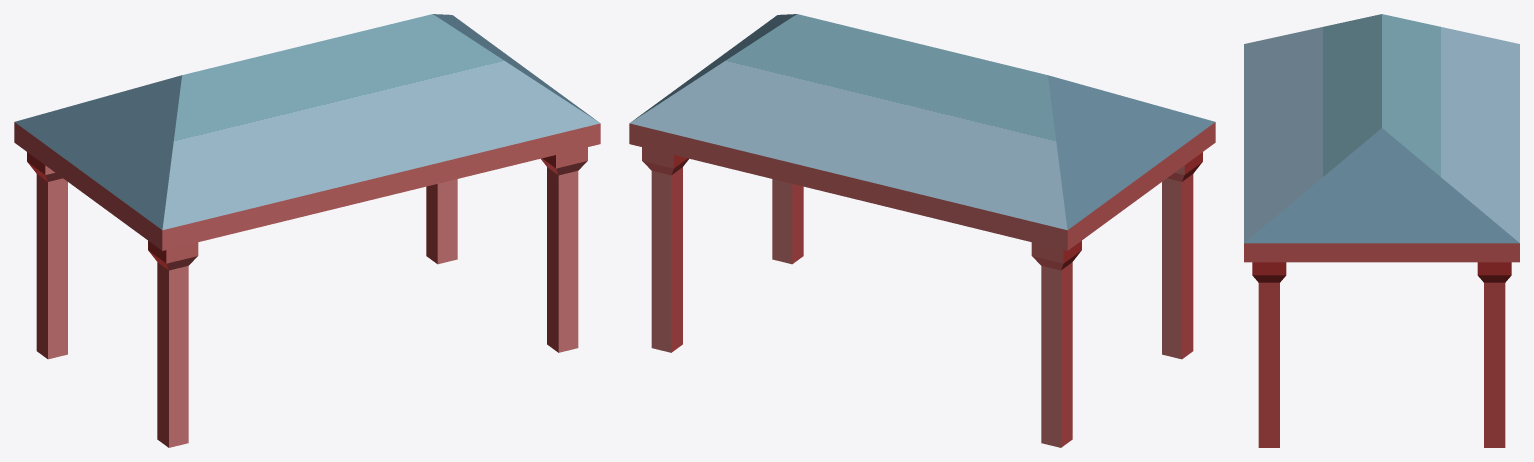
Rendered from house_bg_b.fbx.
The picture shows the model from 3 angles, left to right: view 1: azimuth 30°, elevation 25°; view 2: azimuth 150°, elevation 25°; view 3: azimuth 270°, elevation 25°; orthographic projection. The views are drawn at different scales.
Parts seen in each view (by area): view 1: house_bg_b; view 2: house_bg_b; view 3: house_bg_b.
Part boxes in pixels (x1,y1,x2,y2): house_bg_b: [14, 14, 600, 447]; house_bg_b: [629, 14, 1215, 447]; house_bg_b: [1244, 14, 1519, 447].
Bounding box in the file's own units: 5.1 × 3.39 × 2.98.
Materials: 1 (1 with a texture image).
